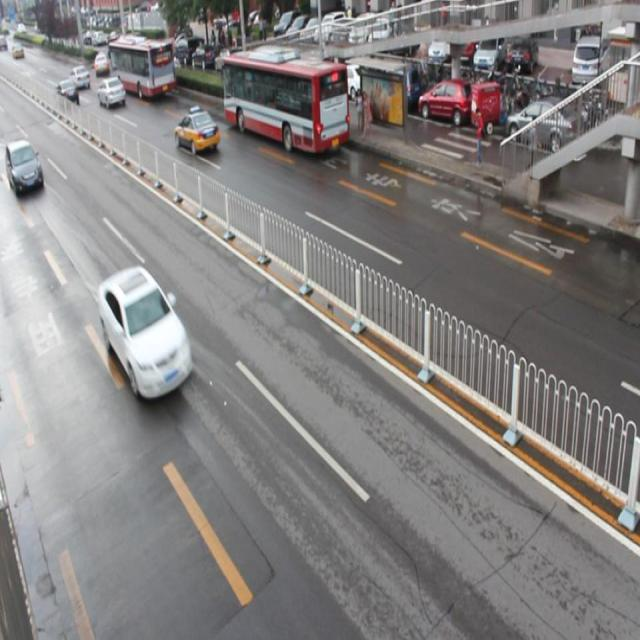car: (97, 264, 191, 398), (174, 109, 220, 154)
truck: (1, 139, 43, 196)
van: (222, 51, 348, 153)
